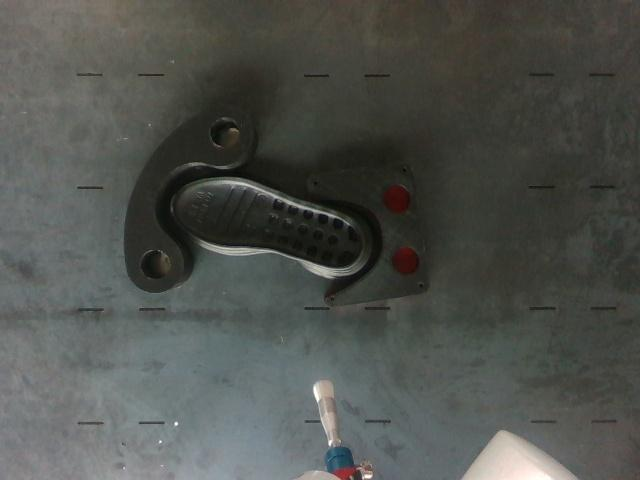shoes: (173, 180, 364, 268)
